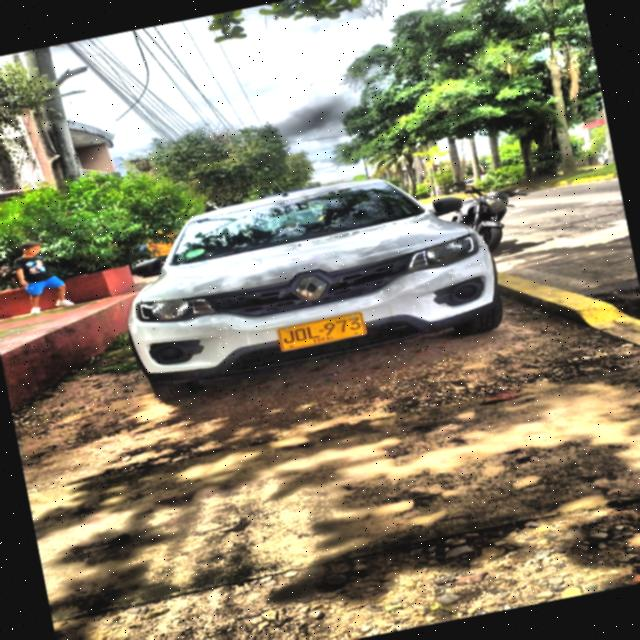plate: (278, 312, 366, 350)
